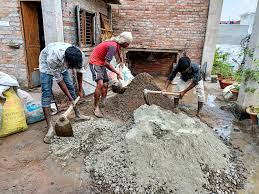arm: (95, 40, 126, 83)
footwear: (40, 126, 56, 144)
human: (35, 42, 86, 144), (87, 27, 138, 118)
leg: (39, 100, 58, 145), (89, 72, 107, 119), (196, 84, 207, 119)
nofootwear: (91, 103, 107, 118)
noglove: (160, 85, 170, 97), (75, 87, 85, 98), (115, 70, 125, 80), (178, 89, 186, 100)
nohelmet: (63, 44, 85, 68), (117, 29, 135, 46), (118, 29, 135, 45), (175, 56, 191, 69)
novest: (89, 38, 118, 69)
